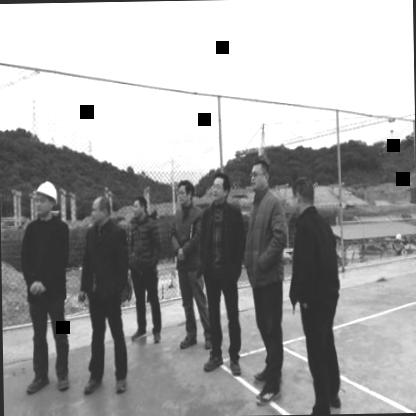head: (289, 169, 316, 217), (247, 157, 272, 193), (88, 190, 112, 225), (208, 171, 230, 202), (176, 180, 198, 209), (130, 192, 148, 220)
helmet: (32, 177, 60, 221)
